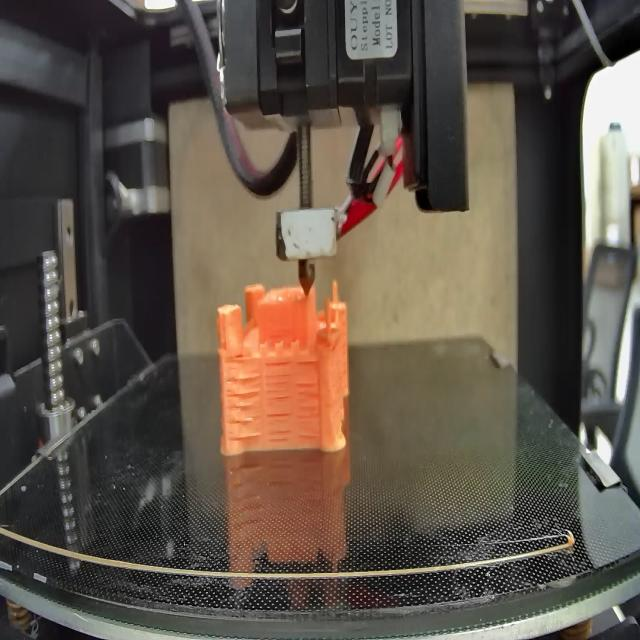cracks: (228, 375, 261, 442), (297, 380, 321, 440), (264, 362, 294, 405), (268, 413, 291, 443), (300, 354, 318, 372), (230, 353, 247, 362)
